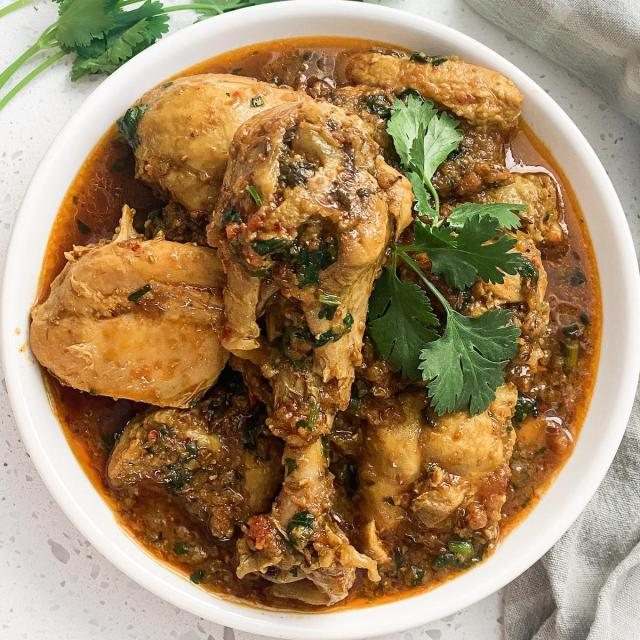chicken: (51, 34, 612, 616)
